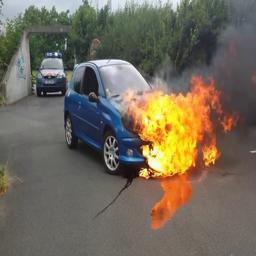fire: (125, 74, 236, 178)
